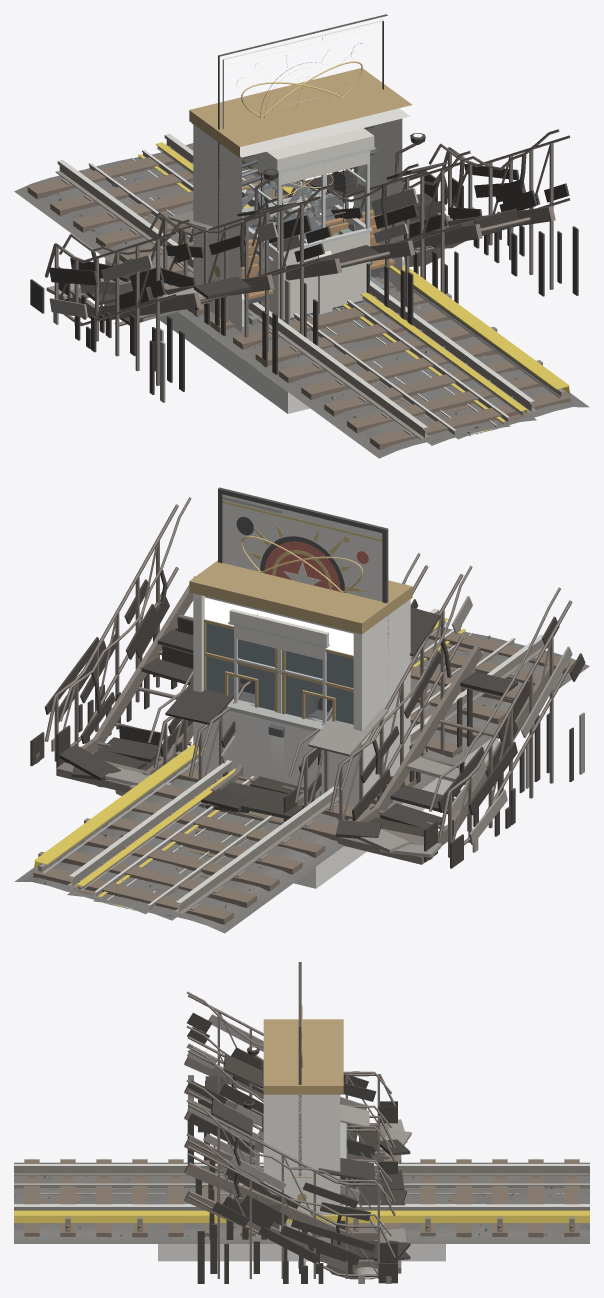
File: metro_props.glb
3 renders of one model, top to bottom at view 1: azimuth 30°, elevation 25°; view 2: azimuth 150°, elevation 25°; view 3: azimuth 270°, elevation 25°, orthographic. The views are drawn at different scales.
Parts seen in each view (by area): view 1: p_metro_esc_wreck, p_metro_track, p_metro_kassa, p_metro_esc_booth, p_metro_mini_track, p_metro_light, p_metro_bench, p_metro_panel, p_metro_gears:0, p_metro_micro_track, p_metro_turnstile; view 2: p_metro_esc_wreck, p_metro_track, p_metro_kassa, p_metro_panel, p_metro_mini_track, p_metro_esc_booth, p_metro_light, p_metro_micro_track, p_metro_turnstile, p_metro_bench; view 3: p_metro_esc_wreck, p_metro_track, p_metro_kassa, p_metro_mini_track, p_metro_light, p_metro_bench, p_metro_panel, p_metro_micro_track.
Boxes of the visible parts, x1,y1,x2,y2 form: p_metro_esc_wreck: (30, 129, 578, 402); p_metro_track: (14, 123, 589, 458); p_metro_kassa: (189, 68, 412, 332); p_metro_esc_booth: (242, 128, 375, 321); p_metro_mini_track: (88, 142, 536, 445); p_metro_light: (105, 258, 310, 413); p_metro_bench: (199, 202, 404, 328); p_metro_panel: (218, 14, 387, 241); p_metro_gears:0: (242, 181, 321, 268); p_metro_micro_track: (120, 154, 510, 439); p_metro_turnstile: (304, 239, 332, 314); p_metro_esc_wreck: (30, 497, 585, 868); p_metro_track: (14, 598, 589, 933); p_metro_kassa: (189, 560, 412, 806); p_metro_panel: (218, 487, 388, 694); p_metro_mini_track: (67, 618, 515, 920); p_metro_esc_booth: (228, 609, 329, 724); p_metro_light: (294, 738, 498, 888); p_metro_micro_track: (93, 629, 483, 914); p_metro_turnstile: (268, 724, 284, 782); p_metro_bench: (368, 716, 404, 790); p_metro_esc_wreck: (184, 991, 411, 1283); p_metro_track: (14, 1159, 589, 1243); p_metro_kassa: (263, 1019, 346, 1225); p_metro_mini_track: (14, 1181, 589, 1205); p_metro_light: (158, 1244, 445, 1261); p_metro_bench: (279, 1177, 330, 1233); p_metro_panel: (298, 962, 302, 1176); p_metro_micro_track: (14, 1193, 589, 1204).
Size of the model in its own units: 5.99 by 4.35 by 9.
